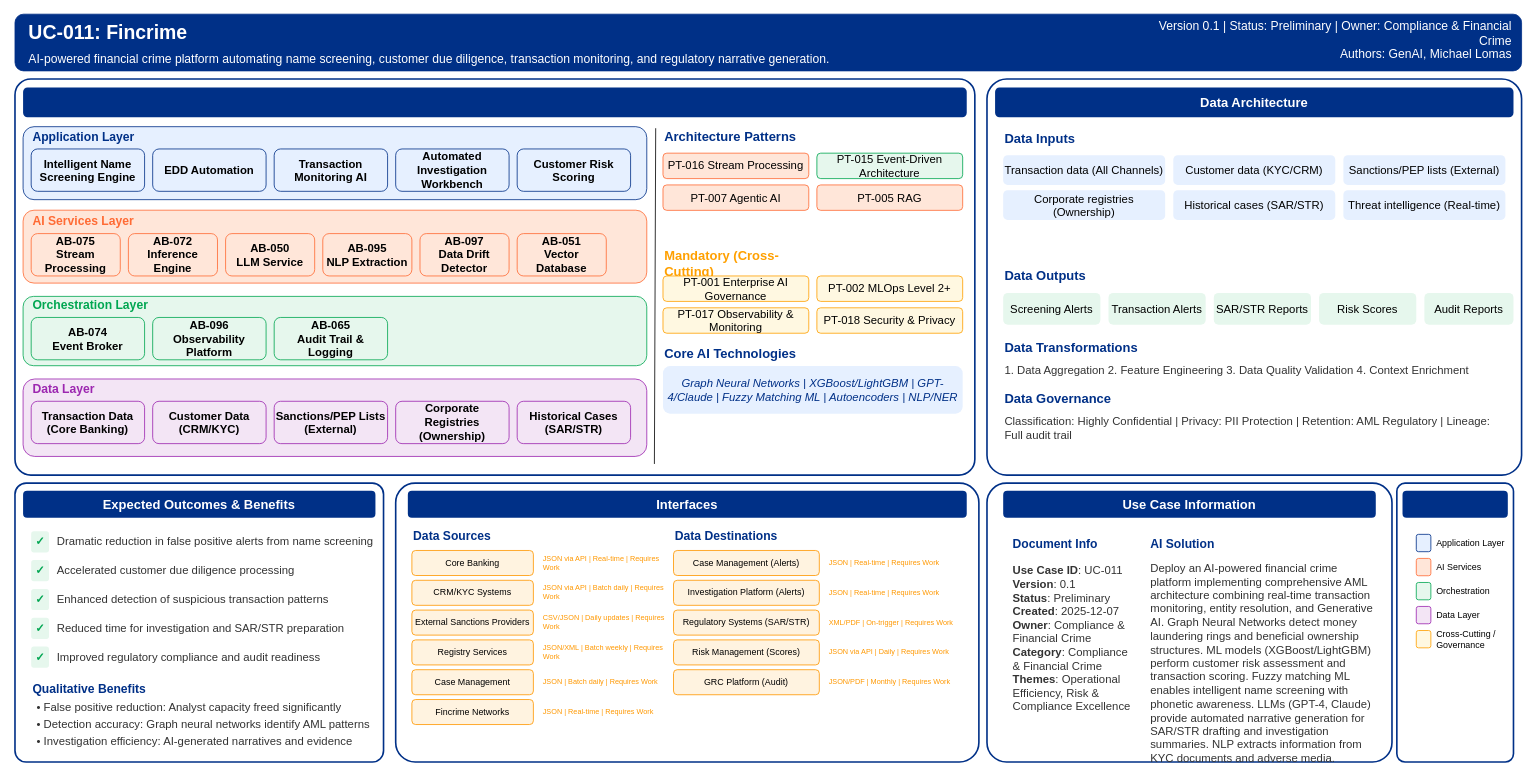
Image size: 1536x778. Some labels were removed from this diagram. The shapes that lost their labels are listed below. From the top down, each one's centre as x and y in pixels, then its label:
the point at 494,102: Solution
the point at 1454,503: Legend
